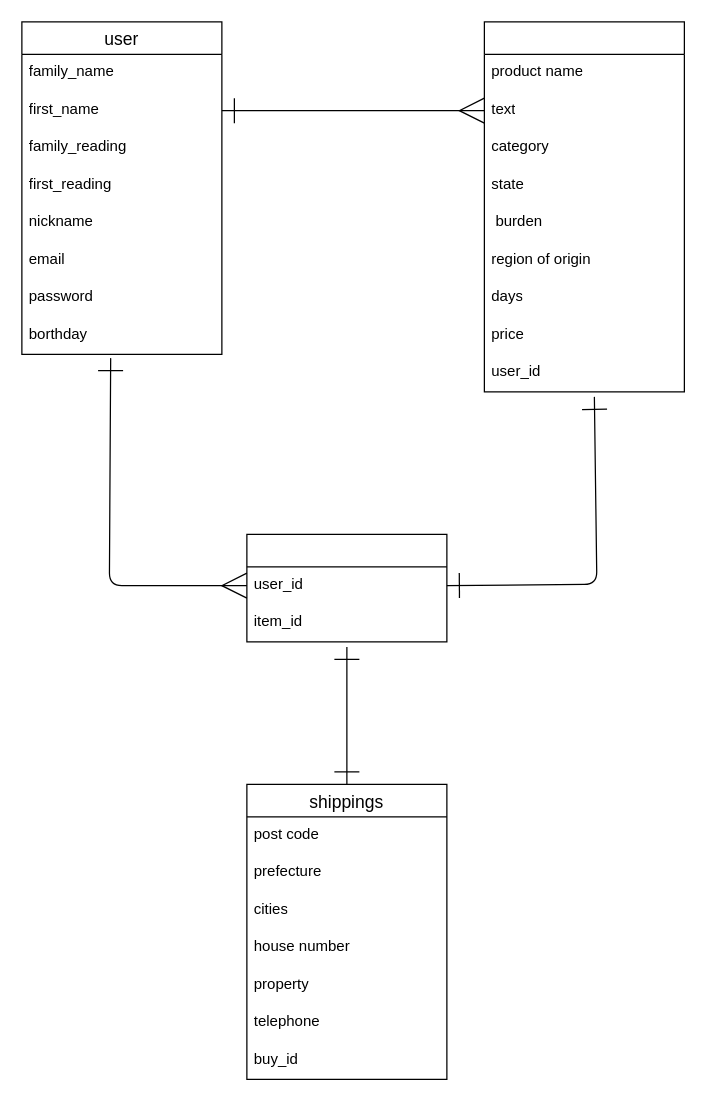
This 706x1105 diagram has some shape labels left out. Here are the shapes that lost their labels. From the top down, the box of each, then its label:
(483, 21, 684, 392): items
(246, 533, 447, 642): buys
